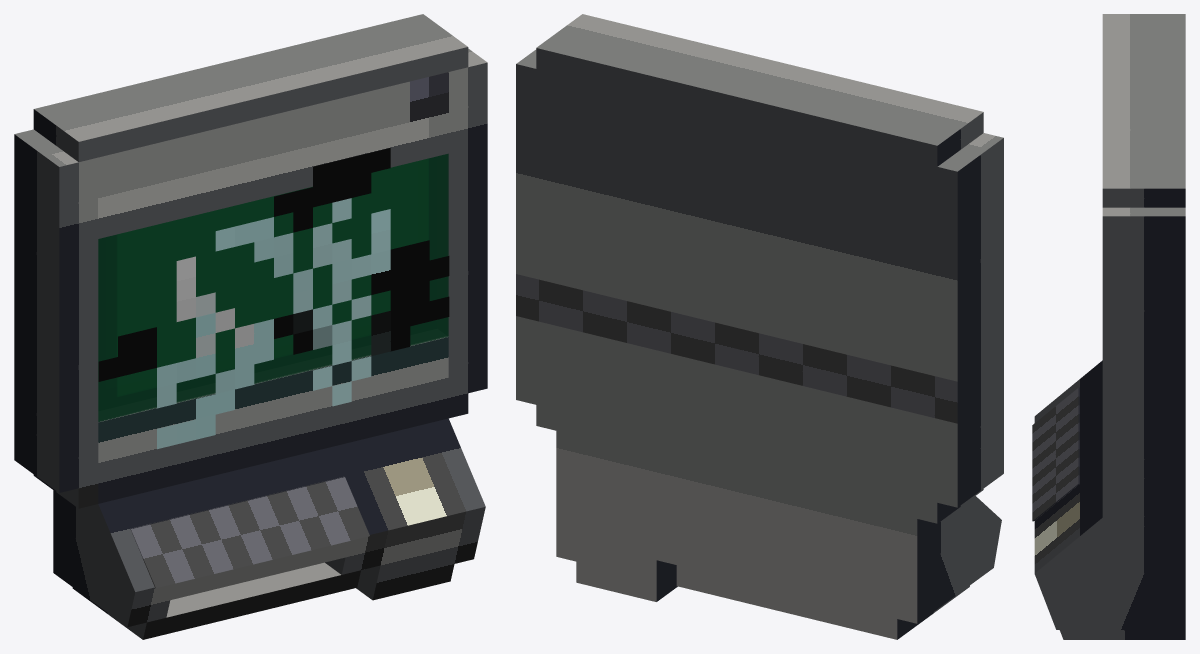
File: newscaster_off_crack_3.glb
3 renders of one model, left to right at view 1: azimuth 30°, elevation 25°; view 2: azimuth 150°, elevation 25°; view 3: azimuth 270°, elevation 25°, orthographic. The views are drawn at different scales.
Visible parts, largest first — view 1: Continuous_Housing, Recessed_Display_Glass, Damage_Overlay, Keyboard_Panel; view 2: Continuous_Housing; view 3: Continuous_Housing, Keyboard_Panel.
Boxes of the visible parts, x1,y1,x2,y2 form: Continuous_Housing: (14,14,487,639); Recessed_Display_Glass: (98,153,448,421); Damage_Overlay: (98,148,449,449); Keyboard_Panel: (130,476,369,588); Continuous_Housing: (516,14,1003,639); Continuous_Housing: (1034,14,1185,639); Keyboard_Panel: (1032,387,1079,521).
Size of the model in its own units: 0.6188 by 0.7031 by 0.2081.
3 materials, 3 textured.
